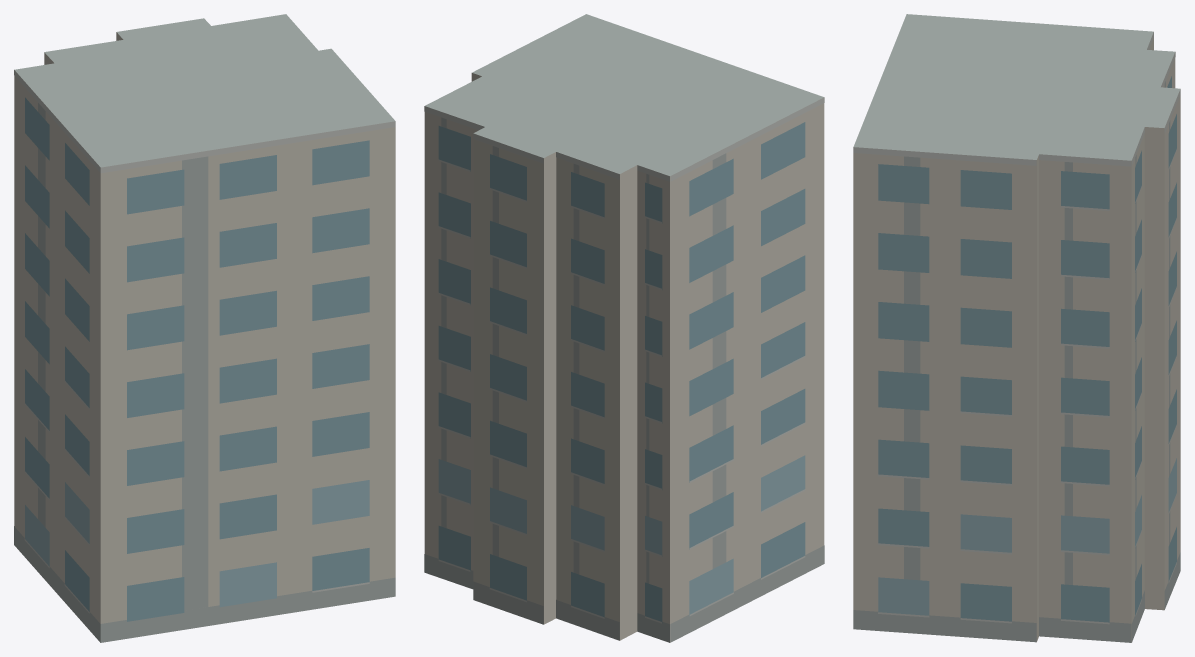
File: survey-upis-32796265.glb
3 renders of one model, left to right at view 1: azimuth 30°, elevation 25°; view 2: azimuth 150°, elevation 25°; view 3: azimuth 270°, elevation 25°, orthographic. The views are drawn at different scales.
Parts seen in each view (by area): view 1: survey-upis-32796265.tmp; view 2: survey-upis-32796265.tmp; view 3: survey-upis-32796265.tmp.
Boxes of the visible parts, box(x1,y1,x2,y2) form: survey-upis-32796265.tmp: box(14, 14, 395, 642); survey-upis-32796265.tmp: box(424, 14, 824, 642); survey-upis-32796265.tmp: box(853, 14, 1180, 642).
Size of the model in its own units: 13.2 by 20.2 by 12.43.
